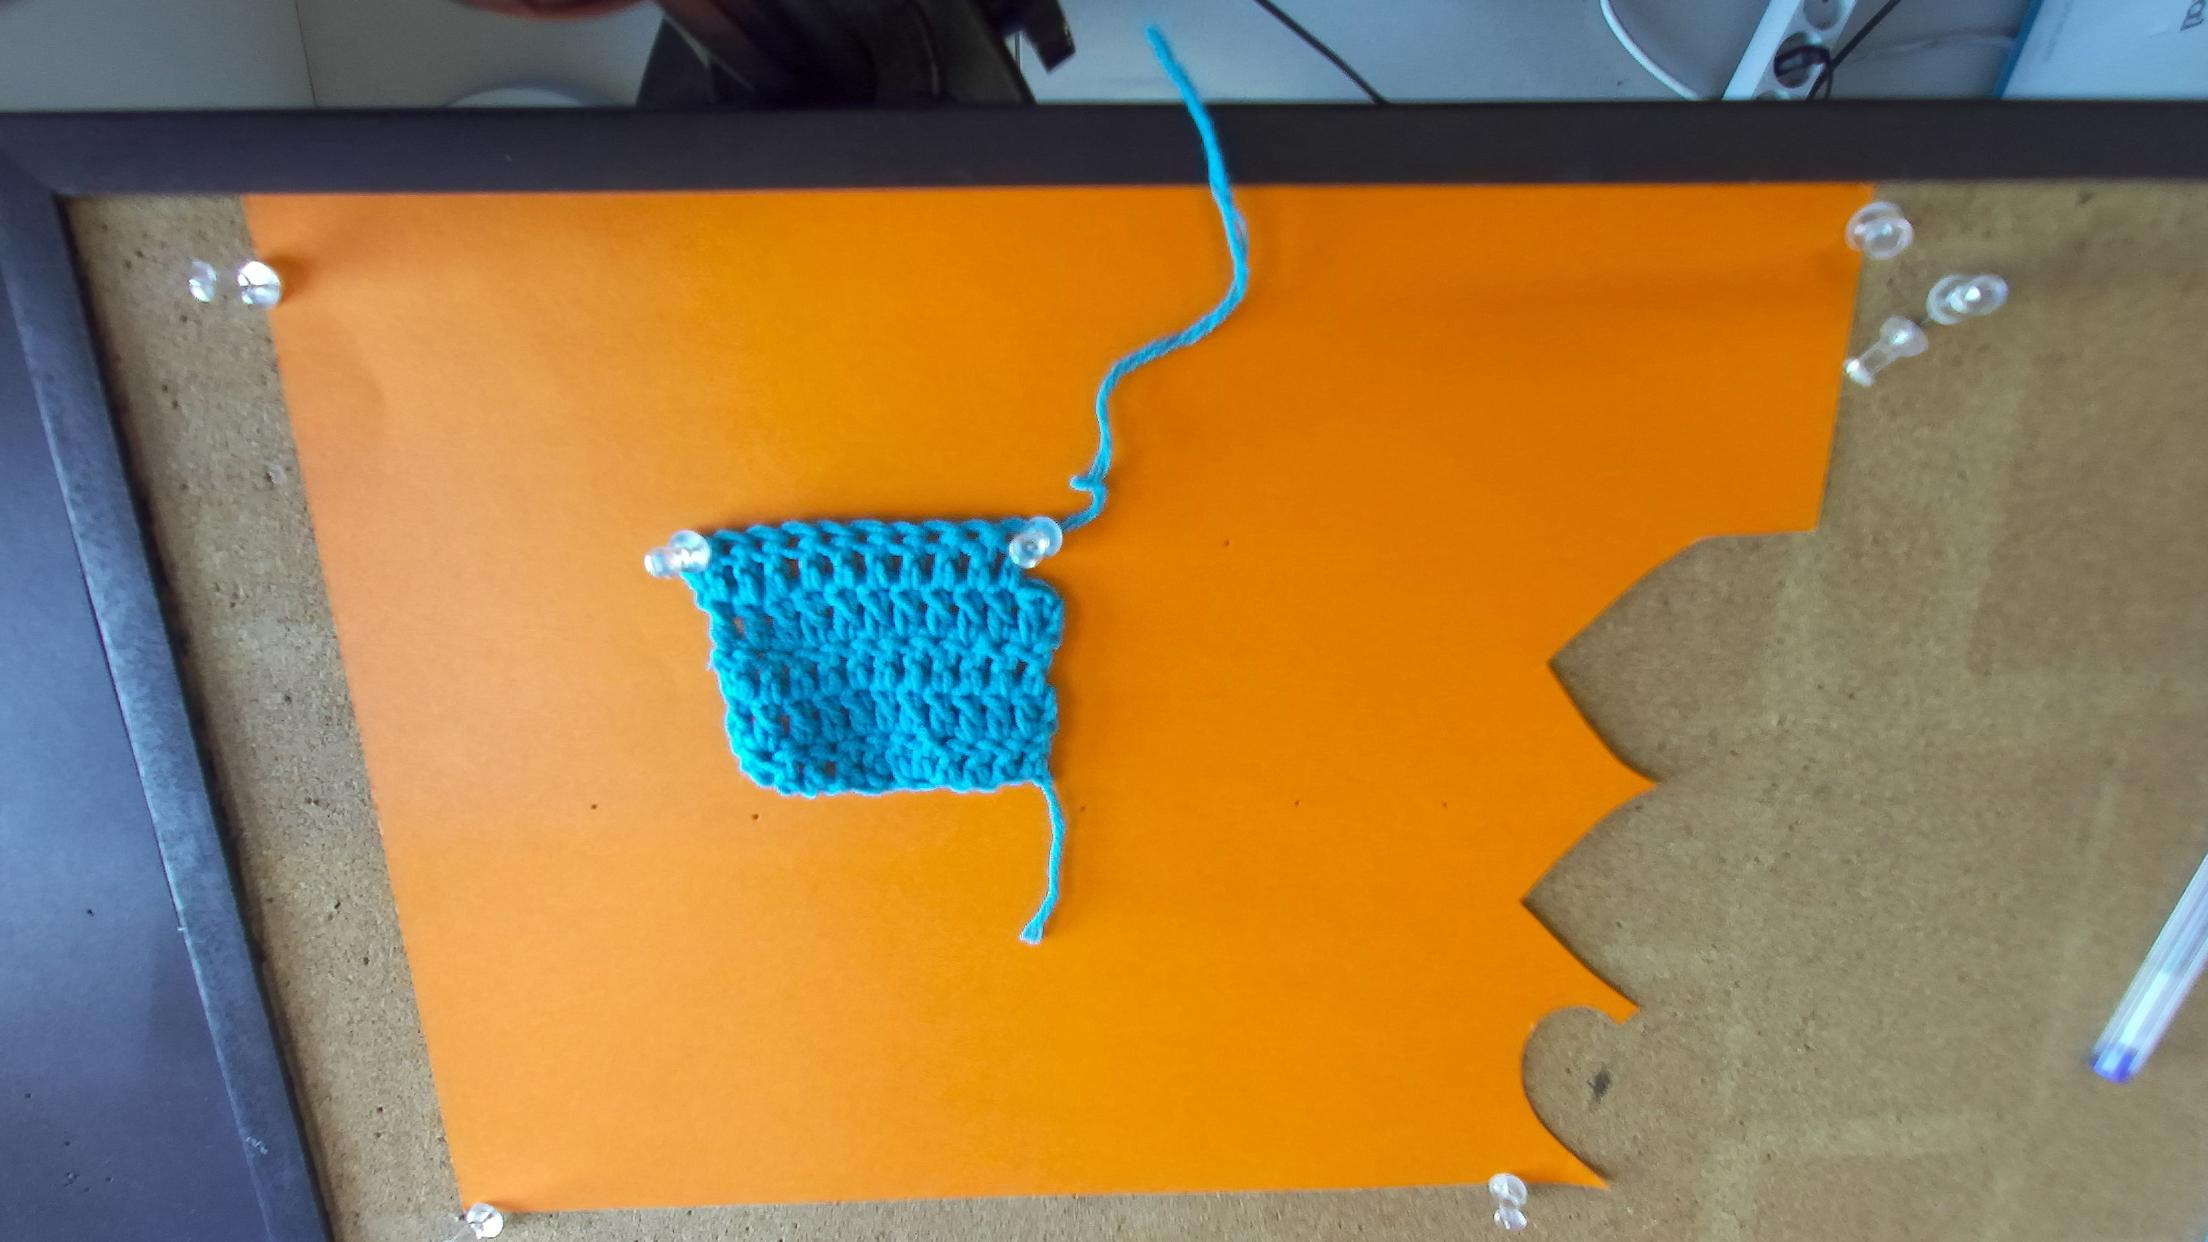hole: (785, 533, 806, 551), (819, 532, 840, 546), (891, 529, 909, 544), (721, 541, 738, 556), (926, 531, 943, 544), (753, 538, 766, 554), (856, 531, 872, 544), (965, 530, 981, 543), (1002, 532, 1018, 543)
swatch: (643, 516, 1066, 816)
